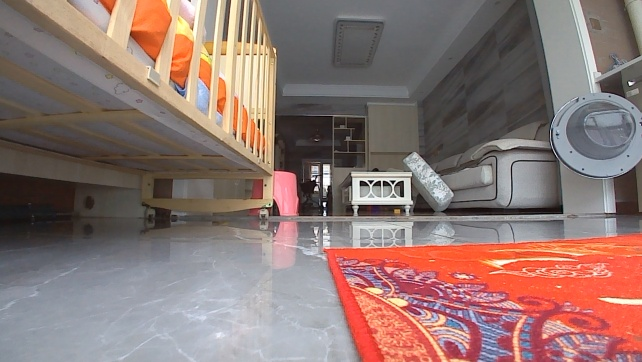blanket: (321, 228, 641, 361)
sofa1: (414, 120, 563, 215)
tea_table: (336, 169, 414, 215)
